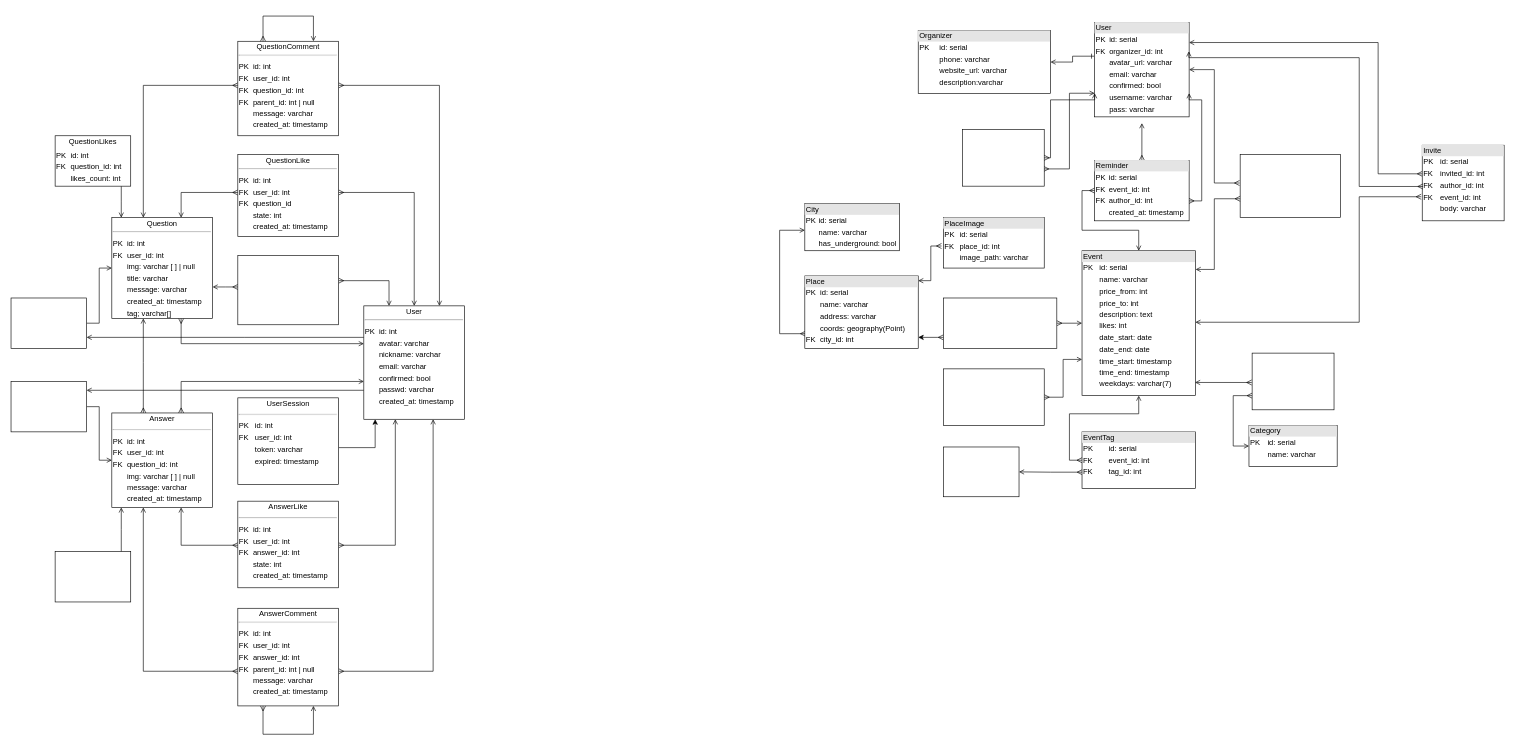
This 1515x751 diagram has some shape labels left out. The shapes that lost their labels are listed below. From the top down, each one's centre as x and y in pixels, then its label:
At pixel 1003 157: "Friends PK id: serial FK user1_id: int FK user2_id: int".
At pixel 1290 186: "EventLike PK id: serial FK user_id: int FK event_id: int created_at: timestamp".
At pixel 288 290: "QuestionView PK id: int FK user_id: int FK question_id created_at: timestamp".
At pixel 48 322: "QuestionLikePerUser PK id: int FK question_id: int likes_count: int".
At pixel 1000 322: "EventPlace PK id: serial FK event_id: int FK place_id: int".
At pixel 993 397: "EventImage PK id: serial FK event_id: int image_path: varchar".
At pixel 1292 381: "EventCategory PK id: serial FK event_id: int FK category_id: int".
At pixel 48 406: "AnsweLikePerUser PK id: int FK answer_id: int likes_count: int".
At pixel 981 471: "Tag PK id: serial name: varchar use_counter: int".
At pixel 92 576: "AnswerLikes PK id: int FK answer_id: int likes_count: int".
